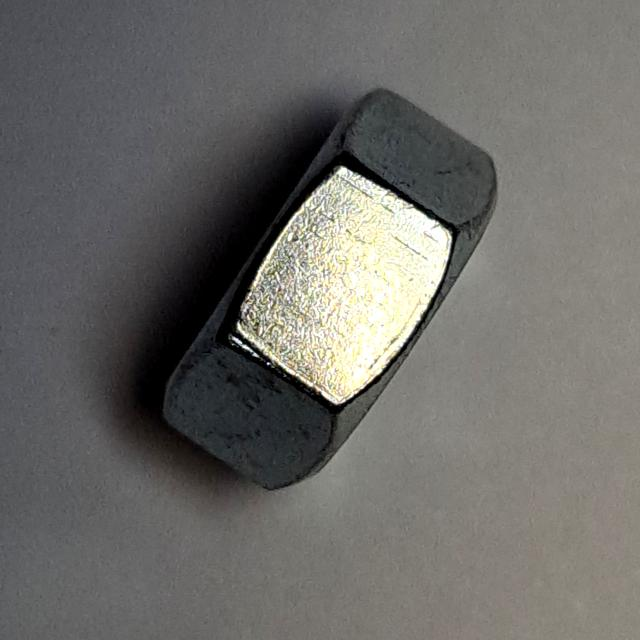Side_Excellent: (153, 70, 517, 506)
